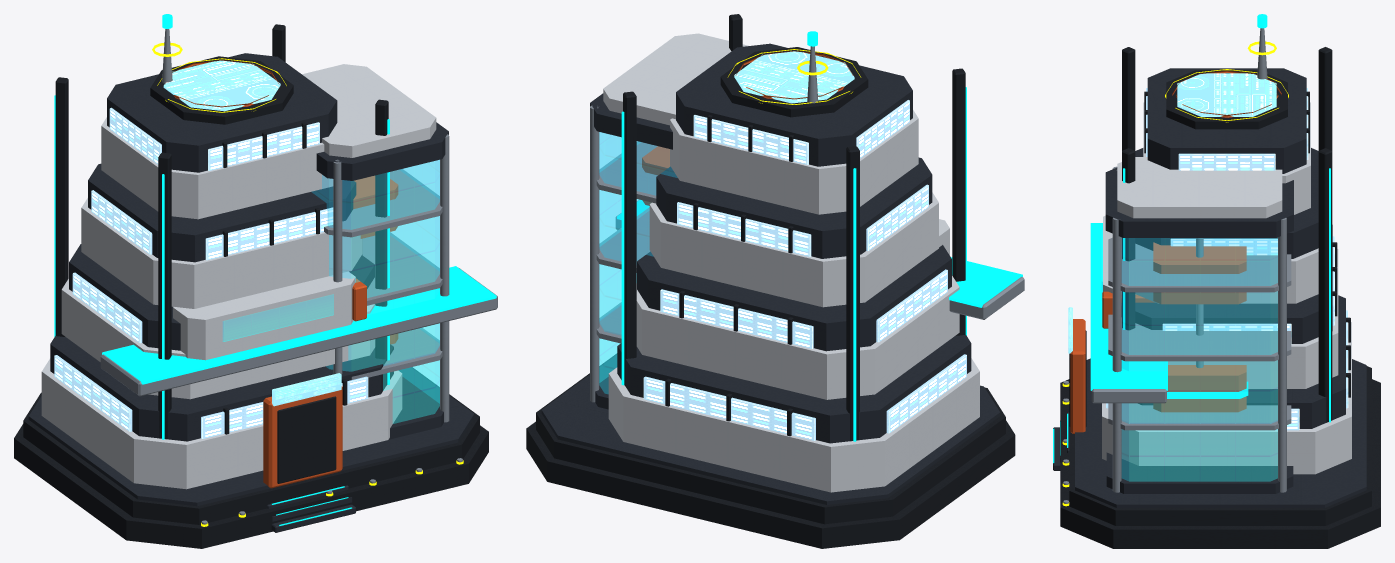
The model's file is bldg_02_r1_04.glb.
3 renders of one model, left to right at view 1: azimuth 30°, elevation 25°; view 2: azimuth 150°, elevation 25°; view 3: azimuth 270°, elevation 25°, orthographic. The views are drawn at different scales.
Visible parts, largest first — view 1: Bldg02_C04_aero_white, Bldg02_C04_carbon_slate, Bldg02_C04_gunmetal, Bldg02_C04_glass_cyan, Bldg02_C04_steel_machined, Bldg02_C04_window_lit, Bldg02_C04_led_cyan, Bldg02_C04_marquee, Bldg02_C04_accent_orange, Bldg02_C04_led_amber; view 2: Bldg02_C04_aero_white, Bldg02_C04_carbon_slate, Bldg02_C04_gunmetal, Bldg02_C04_window_lit, Bldg02_C04_steel_machined, Bldg02_C04_glass_cyan, Bldg02_C04_led_cyan, Bldg02_C04_marquee, Bldg02_C04_accent_orange; view 3: Bldg02_C04_carbon_slate, Bldg02_C04_glass_cyan, Bldg02_C04_gunmetal, Bldg02_C04_aero_white, Bldg02_C04_steel_machined, Bldg02_C04_accent_orange, Bldg02_C04_led_cyan, Bldg02_C04_window_lit, Bldg02_C04_marquee, Bldg02_C04_led_amber.
Part boxes in pixels (<box>): Bldg02_C04_aero_white: <box>41,64,436,489</box>; Bldg02_C04_carbon_slate: <box>28,53,474,532</box>; Bldg02_C04_gunmetal: <box>14,24,488,548</box>; Bldg02_C04_glass_cyan: <box>223,160,439,423</box>; Bldg02_C04_steel_machined: <box>100,29,497,524</box>; Bldg02_C04_window_lit: <box>54,107,368,438</box>; Bldg02_C04_led_cyan: <box>54,14,496,525</box>; Bldg02_C04_marquee: <box>163,60,341,406</box>; Bldg02_C04_accent_orange: <box>165,60,398,488</box>; Bldg02_C04_led_amber: <box>152,43,463,526</box>; Bldg02_C04_aero_white: <box>603,33,979,492</box>; Bldg02_C04_carbon_slate: <box>541,43,1000,504</box>; Bldg02_C04_gunmetal: <box>526,14,1015,548</box>; Bldg02_C04_window_lit: <box>643,100,966,440</box>; Bldg02_C04_steel_machined: <box>590,46,1024,402</box>; Bldg02_C04_glass_cyan: <box>599,132,677,393</box>; Bldg02_C04_led_cyan: <box>617,31,1022,441</box>; Bldg02_C04_marquee: <box>734,51,854,103</box>; Bldg02_C04_accent_orange: <box>642,50,853,205</box>; Bldg02_C04_carbon_slate: <box>1053,68,1366,507</box>; Bldg02_C04_glass_cyan: <box>1101,230,1277,481</box>; Bldg02_C04_gunmetal: <box>1060,47,1380,548</box>; Bldg02_C04_aero_white: <box>1102,102,1351,474</box>; Bldg02_C04_steel_machined: <box>1063,28,1291,503</box>; Bldg02_C04_accent_orange: <box>1070,70,1281,433</box>; Bldg02_C04_led_cyan: <box>1053,14,1330,463</box>; Bldg02_C04_window_lit: <box>1106,88,1348,430</box>; Bldg02_C04_marquee: <box>1068,73,1276,353</box>; Bldg02_C04_led_amber: <box>1062,41,1288,506</box>.
Bounding box in the file's own units: 12.5 × 14.43 × 10.23.
10 materials, 10 textured.
